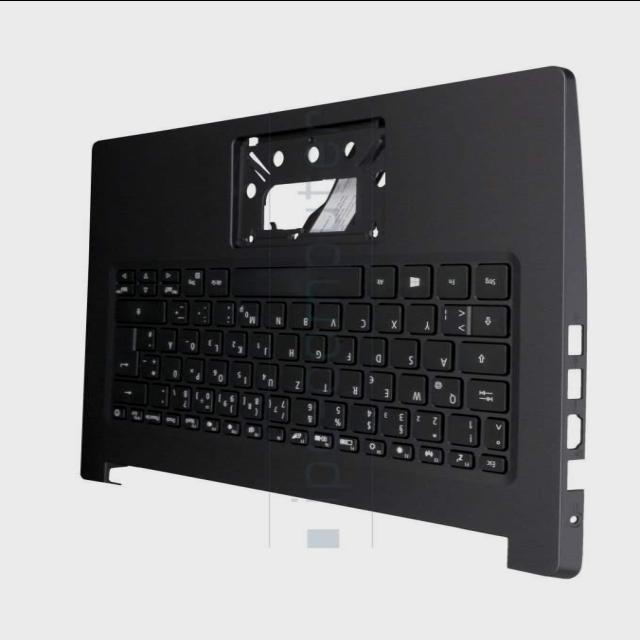0: (192, 388, 214, 413)
1: (449, 415, 479, 447)
2: (413, 412, 443, 442)
3: (380, 409, 408, 437)
4: (350, 404, 376, 434)
5: (321, 402, 345, 430)
6: (292, 399, 316, 426)
7: (266, 397, 288, 422)
8: (239, 393, 261, 419)
9: (215, 392, 237, 416)
a: (421, 340, 452, 370)
accent: (149, 383, 167, 407)
ae: (155, 329, 176, 353)
alt-left: (365, 265, 397, 299)
altgr-right: (206, 269, 230, 297)
b: (288, 302, 310, 330)
c: (342, 303, 370, 331)
caret: (482, 417, 508, 451)
comma: (213, 302, 233, 326)
d: (360, 338, 384, 366)
del: (110, 381, 147, 405)
e: (366, 372, 394, 402)
enter: (111, 328, 133, 376)
f: (329, 336, 355, 364)
g: (301, 335, 325, 363)
h: (275, 333, 299, 361)
hash: (136, 329, 153, 351)
i: (229, 361, 251, 388)
j: (249, 333, 271, 360)
k: (225, 332, 246, 358)
keyboard: (103, 253, 516, 475)
l: (200, 331, 222, 355)
less: (439, 304, 469, 335)
m: (237, 301, 259, 328)
minus: (166, 301, 188, 325)
n: (262, 302, 283, 328)
o: (206, 361, 227, 386)
oe: (178, 330, 197, 354)
p: (183, 359, 203, 383)
plus: (139, 355, 158, 379)
point: (189, 300, 211, 326)
q: (429, 377, 460, 409)
r: (336, 370, 362, 399)
s: (391, 339, 417, 369)
shift-left: (473, 304, 510, 338)
shift-lock: (457, 343, 508, 373)
shift-right: (113, 300, 162, 324)
space: (232, 266, 362, 297)
ss: (169, 386, 189, 410)
strg-left: (475, 264, 510, 300)
t: (307, 368, 333, 396)
tab: (467, 379, 507, 410)
u: (254, 364, 276, 390)
ue: (160, 357, 180, 381)
v: (313, 302, 339, 330)
w: (398, 374, 426, 404)
x: (373, 303, 401, 334)
y: (405, 304, 436, 333)
z: (279, 366, 305, 393)
